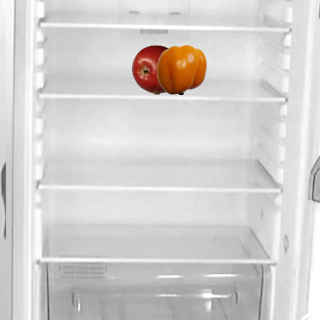Apple Braeburn: (131, 44, 181, 94)
Pepper Yellow: (156, 44, 206, 94)
